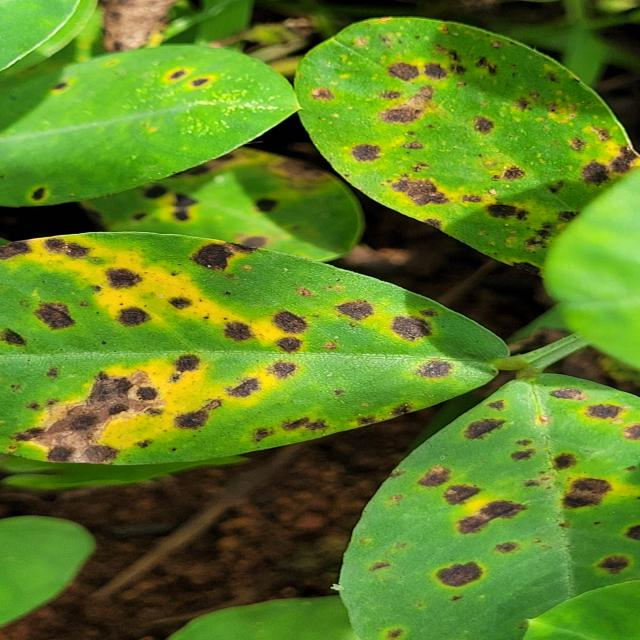Ground nut_tikka leaf spot: (1, 230, 524, 464), (299, 13, 640, 266), (339, 371, 640, 640)
